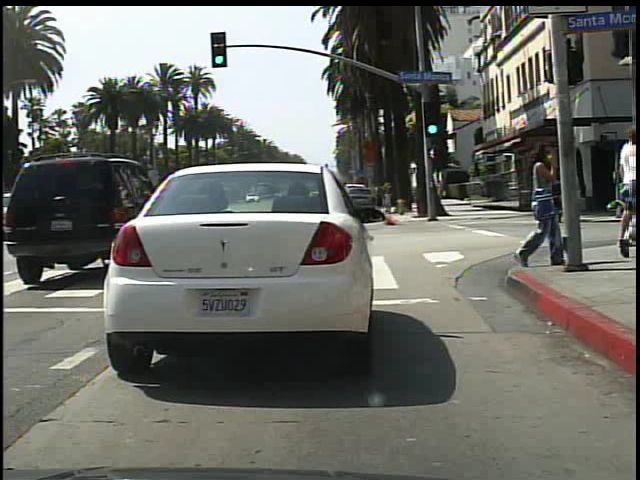person: (510, 139, 561, 272), (624, 121, 635, 262)
